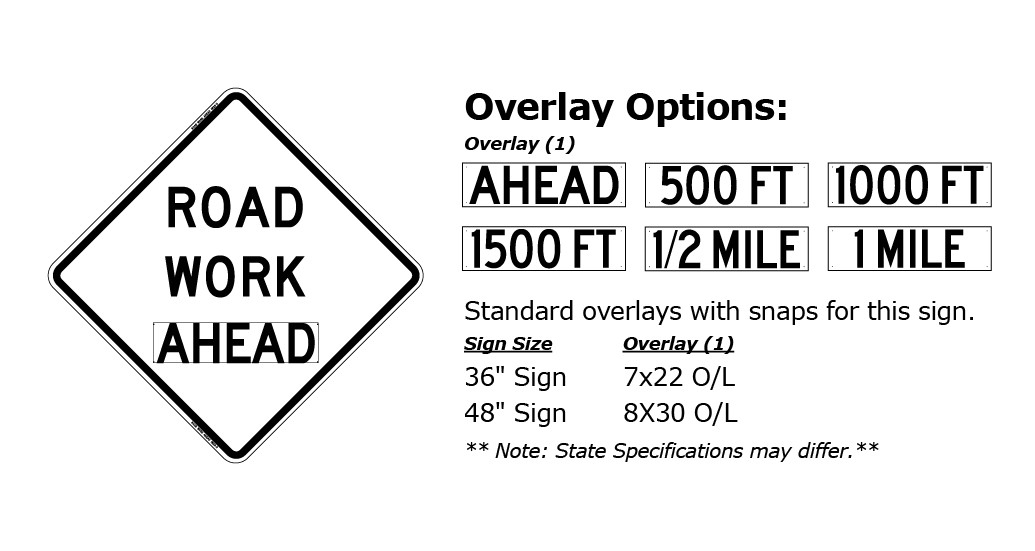Road_workahead: (46, 89, 434, 470)
